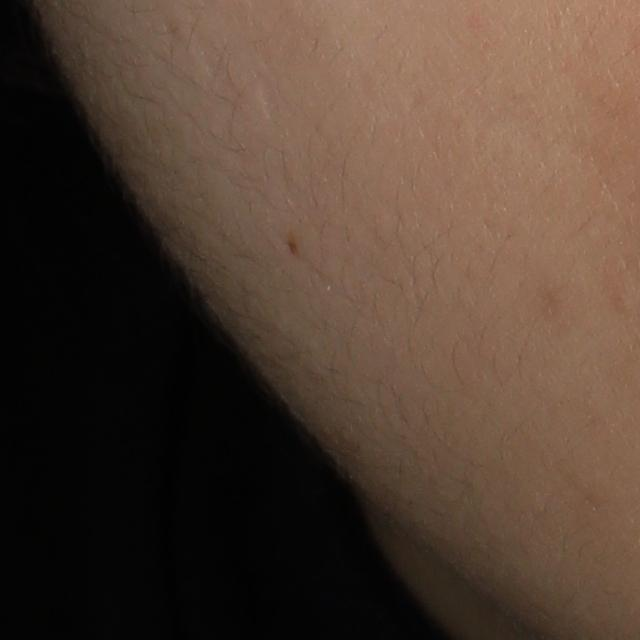nevus: (287, 234, 300, 259)
